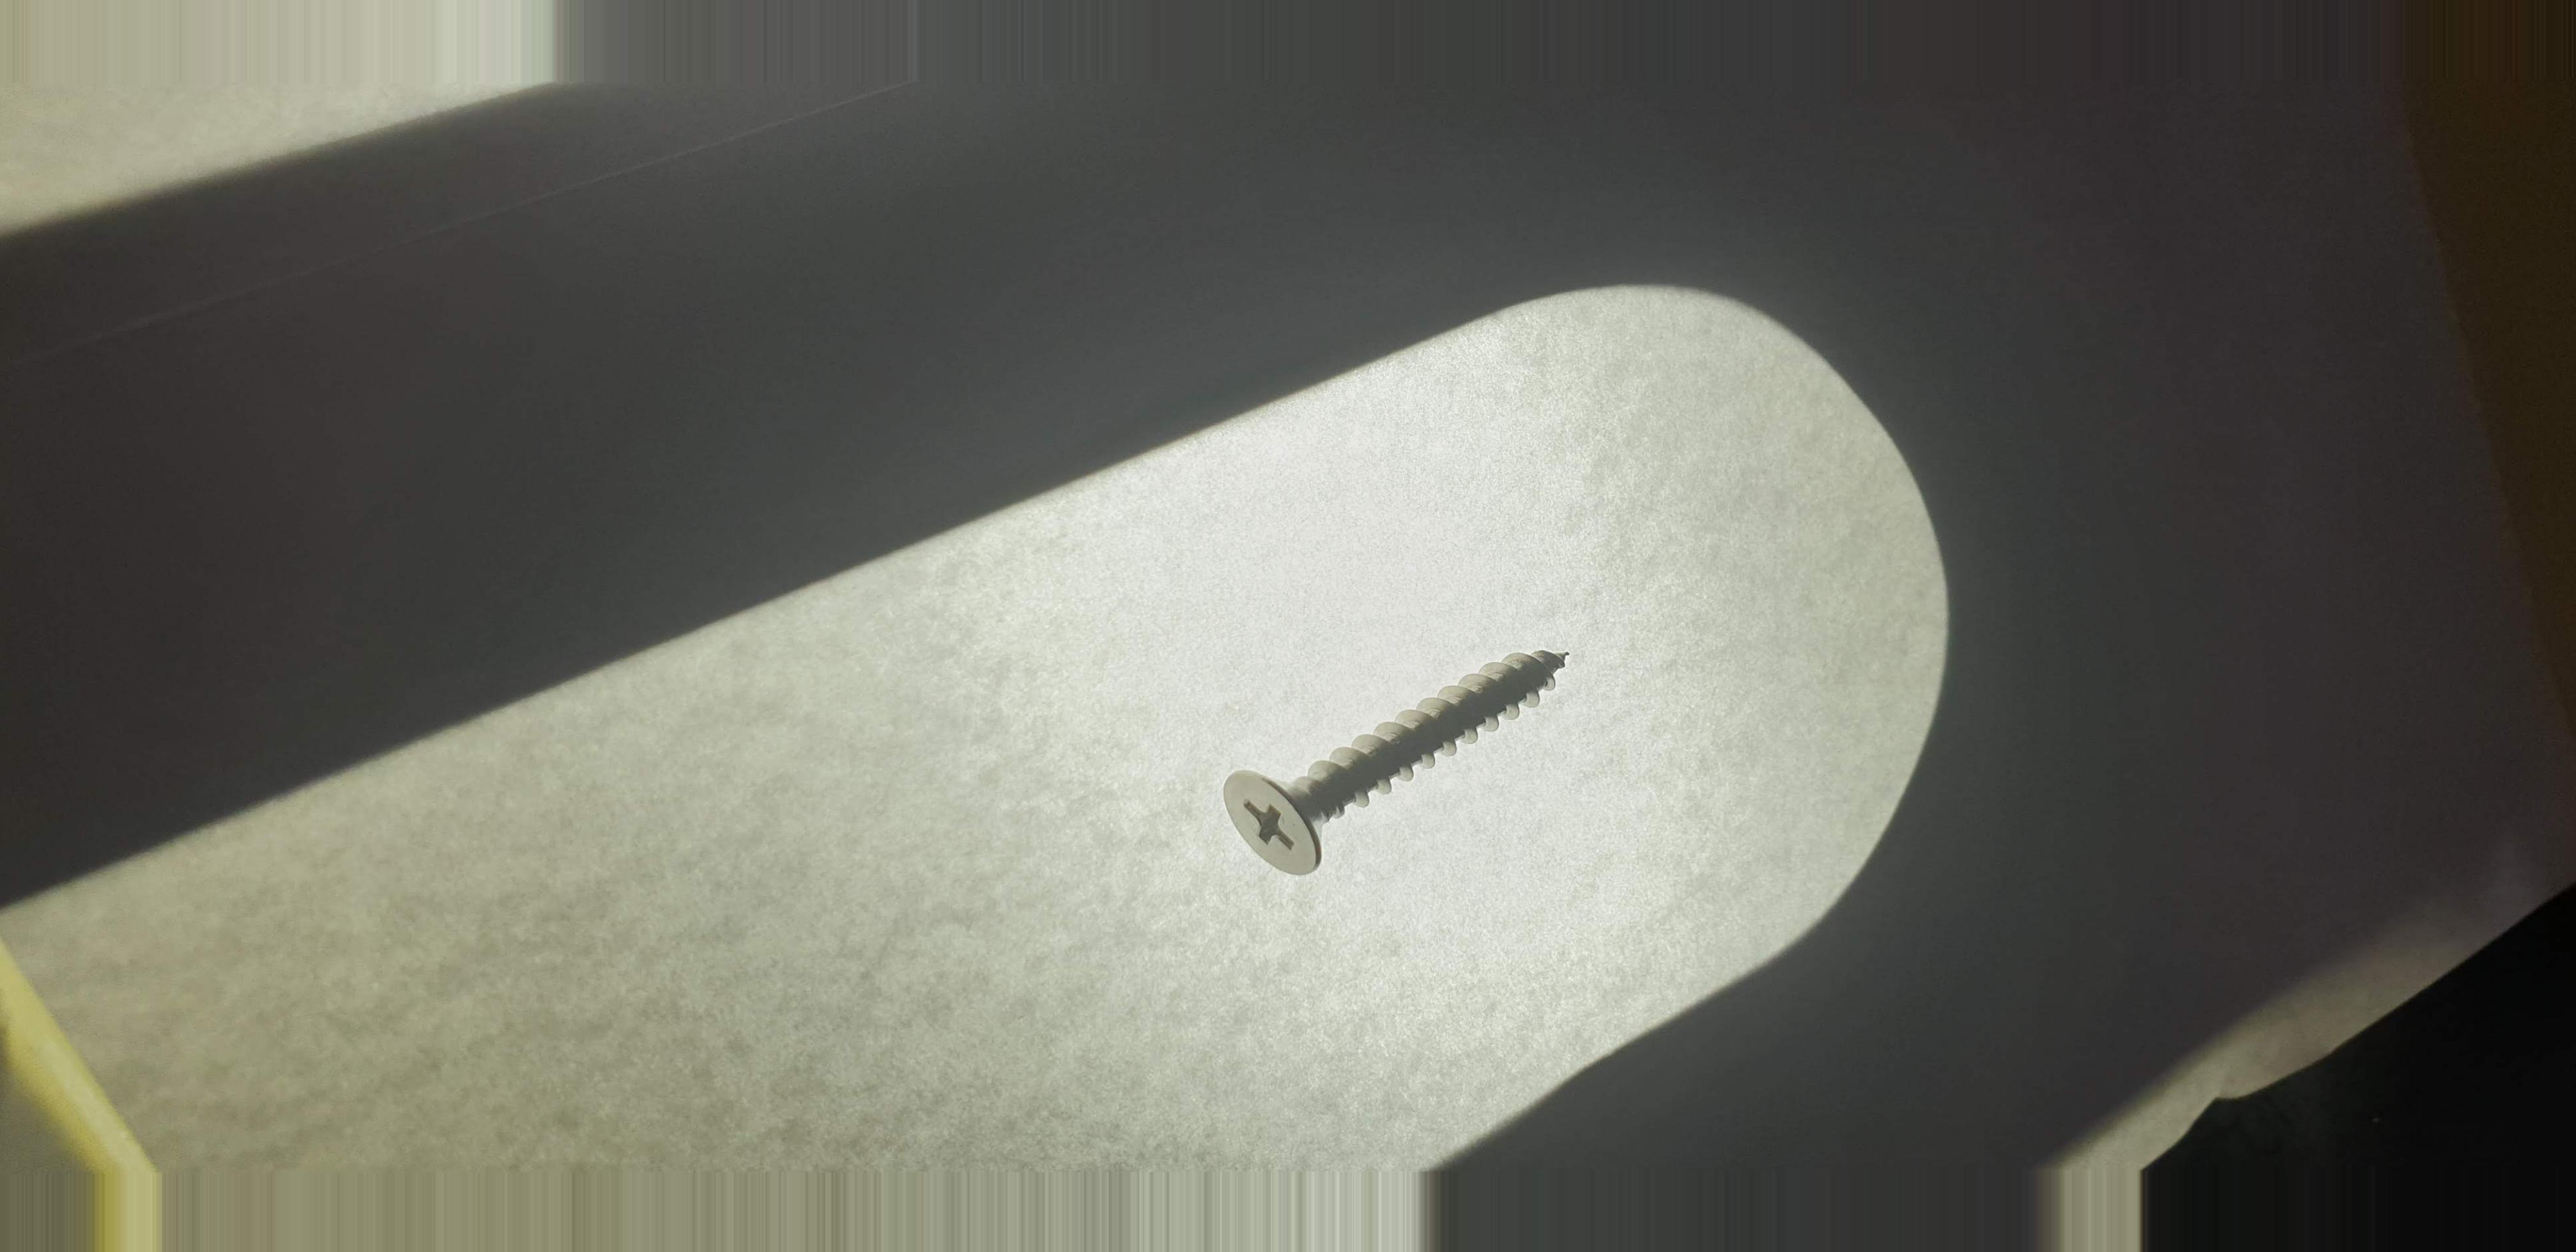S004: (1166, 605, 1648, 909)
